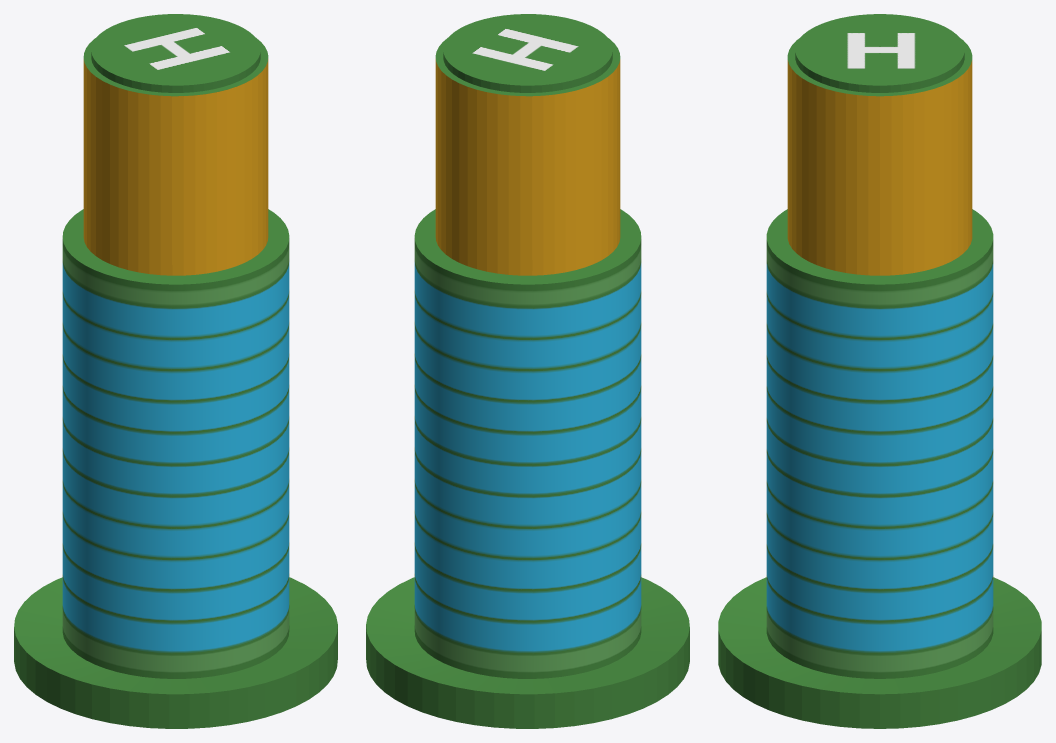
The model's file is building set 2_16.fbx.
The picture shows the model from 3 angles, left to right: view 1: azimuth 30°, elevation 25°; view 2: azimuth 150°, elevation 25°; view 3: azimuth 270°, elevation 25°; orthographic projection.
Visible parts, largest first — view 1: pCylinder10; view 2: pCylinder10; view 3: pCylinder10.
Boxes of the visible parts, bbox=[...] form: pCylinder10: bbox=[14, 14, 337, 728]; pCylinder10: bbox=[366, 14, 689, 728]; pCylinder10: bbox=[718, 14, 1041, 728].
Size of the model in its own units: 4.74 by 9.86 by 4.73.
